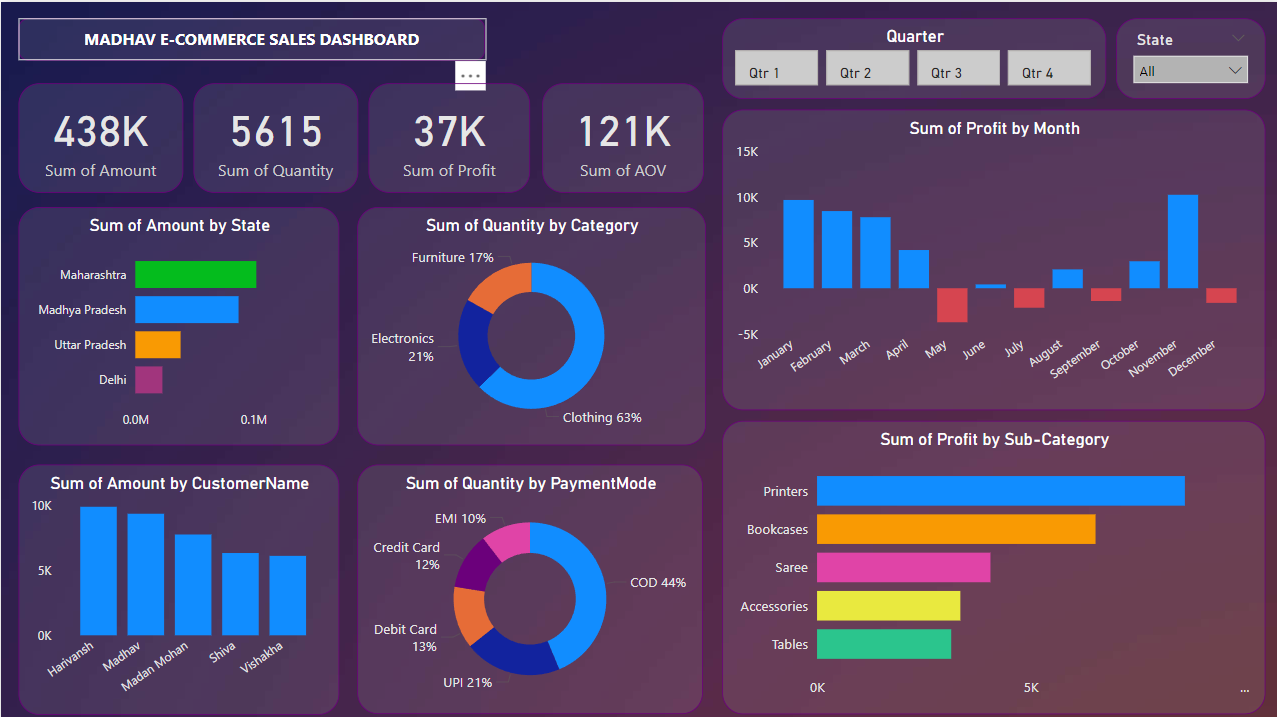

The page's visual inventory and layout, read from the dashboard file:
{"tool":"powerbi","page":{"name":"Page 1","canvas":[1280,720],"ordinal":0},"visuals":[{"type":"columnChart","fields":{"Category":["Orders.Order Date.Variation.Date Hierarchy.Month"],"Y":["Details.Profit"]},"box":[721.8,107,543.4,300.5],"z":0},{"type":"barChart","fields":{"Category":["Details.Sub-Category"],"Y":["Details.Profit"]},"box":[721.8,418.9,543.4,293.7],"z":1},{"type":"donutChart","fields":{"Category":["Details.Category"],"Y":["Details.Quantity"]},"box":[356.8,204.5,348.5,238.8],"z":2},{"type":"donutChart","fields":{"Y":["Details.Quantity"],"Category":["Details.PaymentMode"]},"box":[356.8,462.8,345.8,249.7],"z":3},{"type":"card","fields":{"Values":["Details.Amount"]},"box":[17.8,81.3,164.7,109.8],"z":4},{"type":"card","fields":{"Values":["Details.Quantity"]},"box":[192.1,81.3,164.7,109.8],"z":5},{"type":"card","fields":{"Values":["Details.AOV"]},"box":[540.7,81,161.9,109.8],"z":7},{"type":"barChart","fields":{"Category":["Orders.State"],"Y":["Details.Amount"]},"box":[17.8,204.8,321.1,238.8],"z":8},{"type":"columnChart","fields":{"Category":["Orders.CustomerName"],"Y":["Details.Amount"]},"box":[18,462.6,321,250],"z":9},{"type":"textbox","box":[17.8,16.5,466.6,42.5],"z":10},{"type":"advancedSlicerVisual","fields":{"Values":["Orders.Order Date.Variation.Date Hierarchy.Quarter"]},"box":[721.8,16.5,384.2,81],"z":11},{"type":"slicer","fields":{"Values":["Orders.State"]},"box":[1115.6,16.5,149.6,81],"z":12},{"type":"card","fields":{"Values":["Details.Profit"]},"box":[367.8,81,161.9,109.8],"z":13}]}

Visuals, with their boxes in screenshot pixels (x1, y1, x2, y2), scaled from the page's 1280x720 canvas onto the 1277x717 screenshot:
columnChart - Orders.Order Date.Variation.Date Hierarchy.Month x Details.Profit: <box>720,107,1262,406</box>
barChart - Details.Sub-Category x Details.Profit: <box>720,417,1262,710</box>
donutChart - Details.Category x Details.Quantity: <box>356,204,704,441</box>
donutChart - Details.Quantity x Details.PaymentMode: <box>356,461,701,710</box>
card - Details.Amount: <box>18,81,182,190</box>
card - Details.Quantity: <box>192,81,356,190</box>
card - Details.AOV: <box>539,81,701,190</box>
barChart - Orders.State x Details.Amount: <box>18,204,338,442</box>
columnChart - Orders.CustomerName x Details.Amount: <box>18,461,338,710</box>
textbox: <box>18,16,483,59</box>
advancedSlicerVisual - Orders.Order Date.Variation.Date Hierarchy.Quarter: <box>720,16,1103,97</box>
slicer - Orders.State: <box>1113,16,1262,97</box>
card - Details.Profit: <box>367,81,528,190</box>
